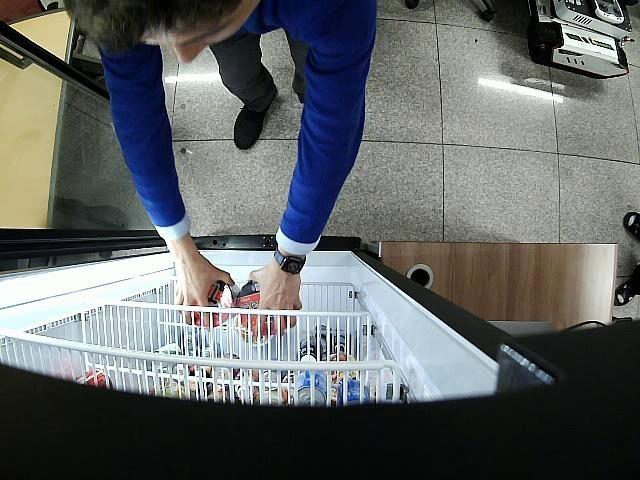01_ShinRamen_L: (236, 280, 276, 346), (195, 280, 240, 328)
